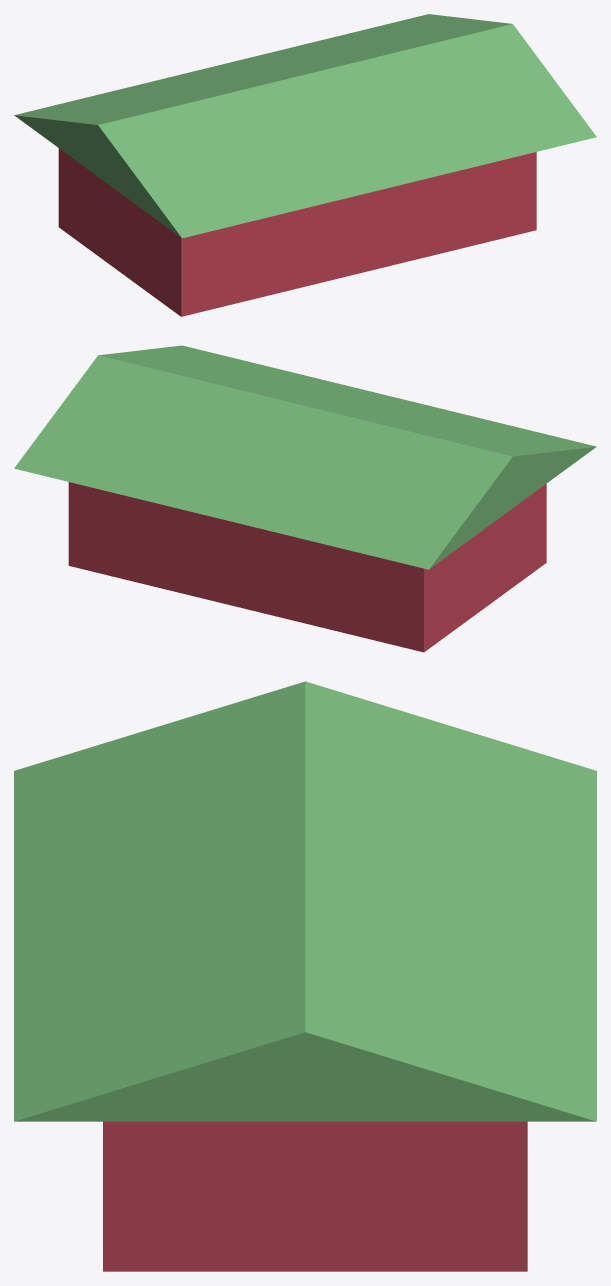
File: house.glb
3 views of the same model, one above another, from view 1: azimuth 30°, elevation 25°; view 2: azimuth 150°, elevation 25°; view 3: azimuth 270°, elevation 25° (orthographic). The views are drawn at different scales.
Visible parts, largest first — view 1: Mesh_Mesh_head_geo.001_lambert2SG.001; view 2: Mesh_Mesh_head_geo.001_lambert2SG.001; view 3: Mesh_Mesh_head_geo.001_lambert2SG.001.
Boxes of the visible parts, left/top/right/bottom form: Mesh_Mesh_head_geo.001_lambert2SG.001: left=14, top=14, right=596, bottom=316; Mesh_Mesh_head_geo.001_lambert2SG.001: left=14, top=345, right=596, bottom=652; Mesh_Mesh_head_geo.001_lambert2SG.001: left=14, top=681, right=596, bottom=1271.
Size of the model in its own units: 84 by 30 by 59.
